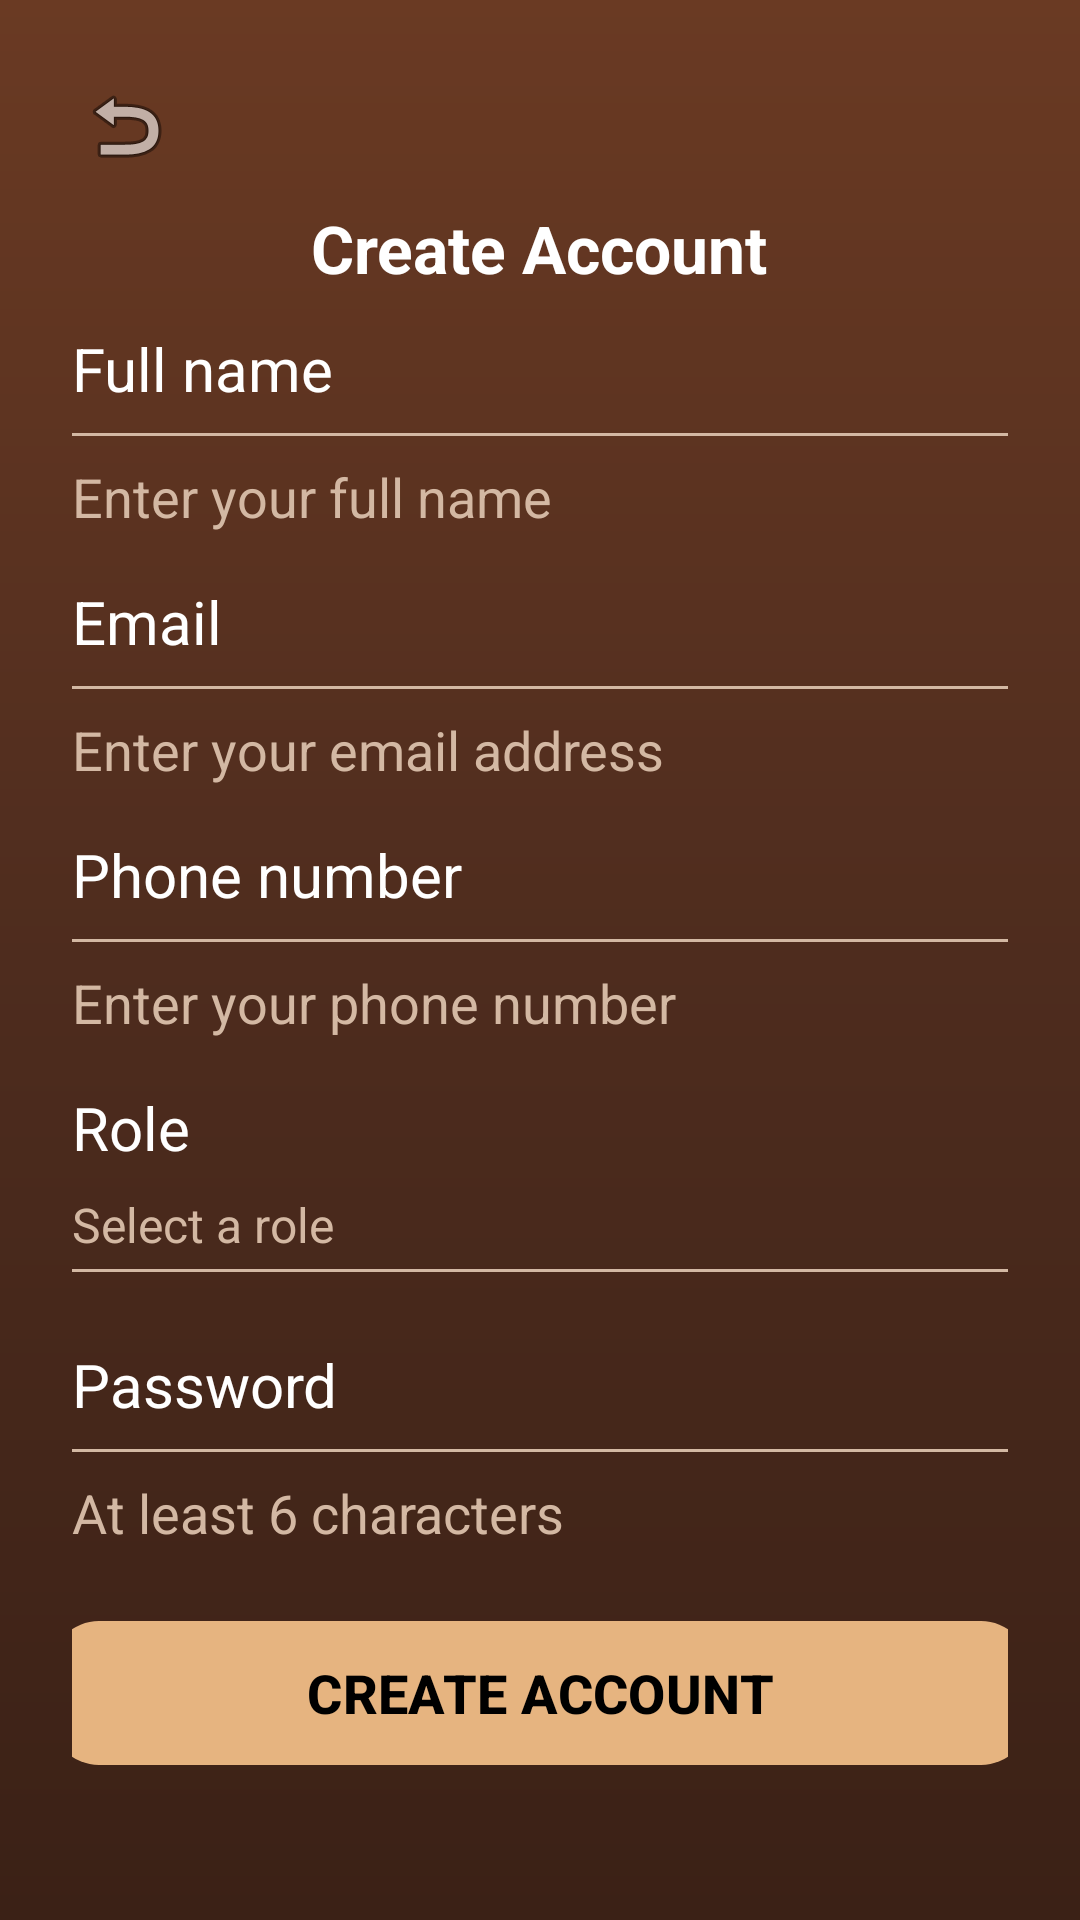

Where to tap for icons on this 1080×1920 app screen, as (x=x, y=y):
Back: (x=127, y=127)
